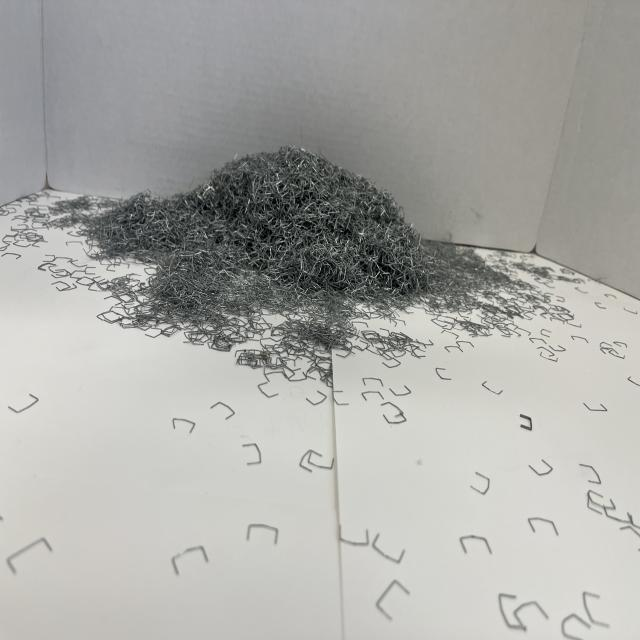staples: (76, 142, 441, 334)
